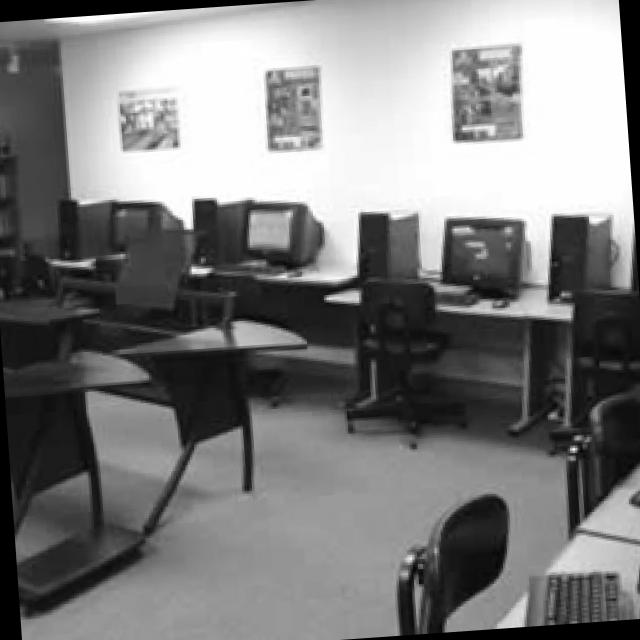CPU occluded: (355, 207, 413, 278)
ceiling beam: (0, 0, 305, 40)
chair cushion: (394, 491, 507, 631)
computer crop: (435, 214, 529, 296), (238, 197, 322, 265), (102, 197, 181, 252)
desk calendar: (0, 270, 302, 601), (321, 271, 621, 432), (43, 238, 366, 284)
desl crp: (489, 453, 640, 626)
floor -X: (0, 300, 640, 640)
keyboard occluded: (522, 568, 627, 624)
lamp crop: (2, 39, 14, 71)
picture crop: (446, 41, 518, 138), (262, 65, 320, 148), (116, 85, 175, 149)
swivel chair crop: (341, 277, 460, 442)
wall clock: (60, 0, 640, 405), (0, 38, 68, 300)
